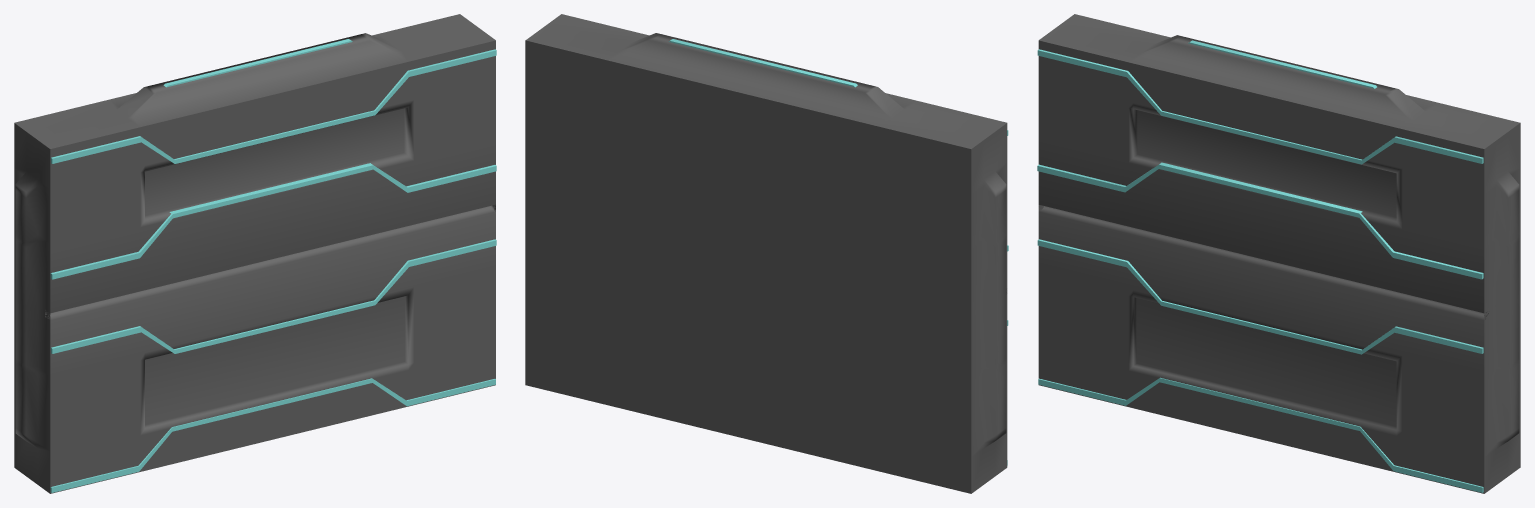
Rendered from WALL.fbx.
The picture shows the model from 3 angles, left to right: view 1: azimuth 30°, elevation 25°; view 2: azimuth 150°, elevation 25°; view 3: azimuth 330°, elevation 25°; orthographic projection.
Visible parts, largest first — view 1: pCube11, pCube13, pCube9, pCube10, pCube12, pCube8; view 2: pCube11, pCube8; view 3: pCube11, pCube13, pCube9, pCube10, pCube12, pCube8.
Part boxes in pixels (bbox=[...]): pCube11: bbox=[14, 14, 495, 493]; pCube13: bbox=[50, 163, 496, 279]; pCube9: bbox=[51, 49, 496, 163]; pCube10: bbox=[51, 239, 496, 353]; pCube12: bbox=[50, 378, 495, 492]; pCube8: bbox=[163, 39, 352, 87]; pCube11: bbox=[525, 14, 1007, 493]; pCube8: bbox=[669, 39, 857, 87]; pCube11: bbox=[1038, 14, 1520, 493]; pCube13: bbox=[1037, 162, 1483, 279]; pCube9: bbox=[1037, 49, 1483, 164]; pCube10: bbox=[1037, 239, 1483, 354]; pCube12: bbox=[1038, 377, 1483, 492]; pCube8: bbox=[1188, 40, 1376, 88].
Size of the model in its own units: 10.53 by 7.8 by 1.47.
